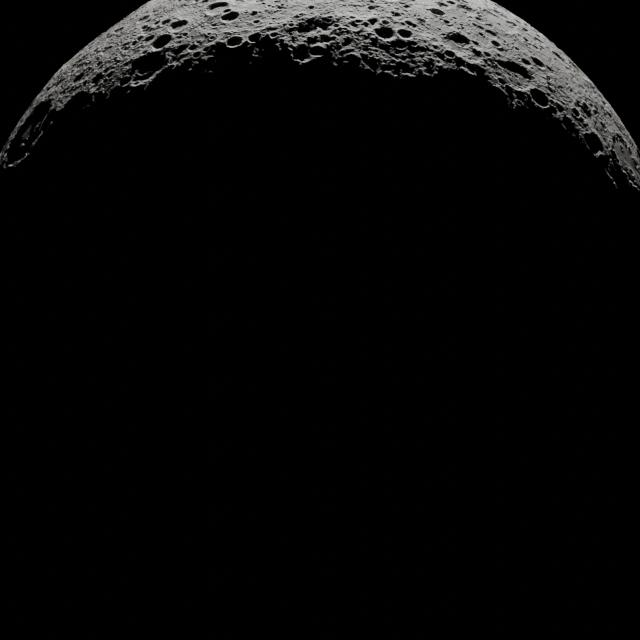crater: (18, 100, 52, 142), (145, 26, 178, 54), (132, 50, 164, 76), (498, 58, 528, 76), (582, 130, 604, 154), (462, 60, 491, 78), (528, 88, 550, 108), (360, 53, 383, 72), (290, 44, 311, 62), (341, 50, 363, 66), (296, 19, 320, 33), (446, 32, 470, 45), (313, 16, 335, 30), (308, 43, 328, 57), (374, 26, 395, 39), (220, 10, 240, 22), (207, 1, 229, 11), (225, 35, 243, 47), (90, 72, 104, 87), (396, 28, 413, 39), (170, 19, 187, 29), (73, 70, 86, 83), (530, 56, 545, 67), (247, 32, 262, 43), (442, 50, 457, 61), (552, 50, 566, 61), (428, 8, 446, 16), (485, 28, 499, 38), (143, 34, 156, 43), (490, 39, 502, 48), (367, 17, 379, 26), (162, 18, 172, 25), (250, 10, 259, 16), (308, 4, 316, 10)
